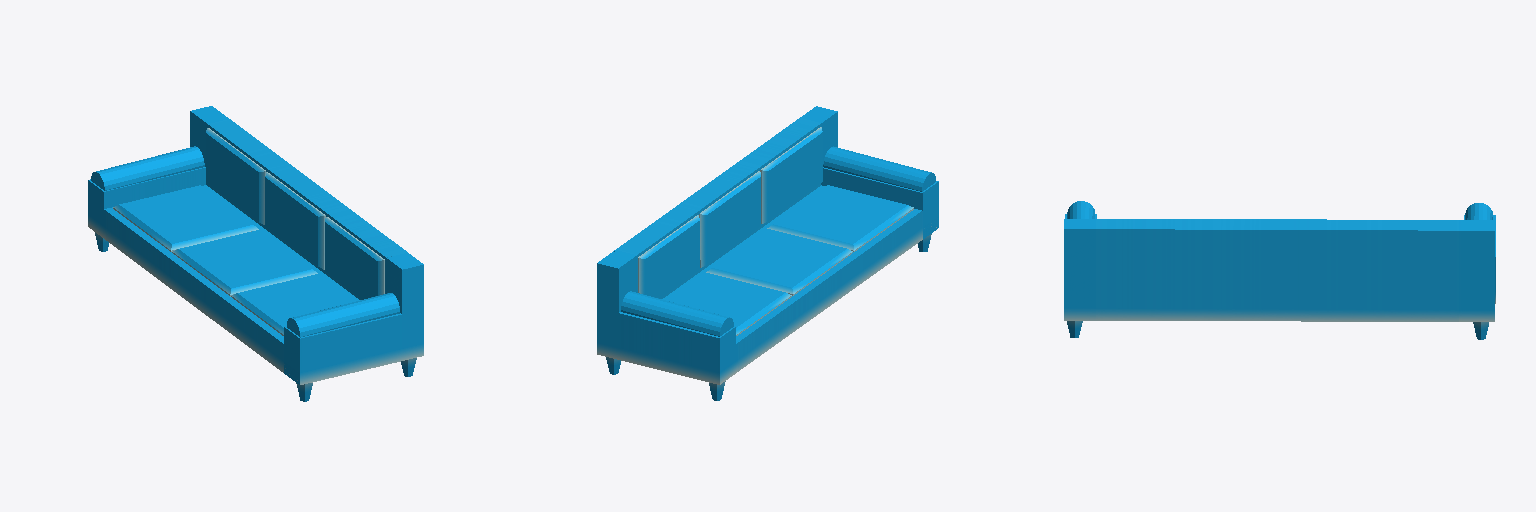
3 views of the same model, side by side, from view 1: azimuth 30°, elevation 25°; view 2: azimuth 150°, elevation 25°; view 3: azimuth 270°, elevation 25° (orthographic).
Visible parts, largest first — view 1: polySurface78; view 2: polySurface78; view 3: polySurface78.
Boxes of the visible parts, box(x1,y1,x2,y2) form: polySurface78: box(88, 106, 423, 401); polySurface78: box(597, 106, 938, 400); polySurface78: box(1064, 201, 1495, 339).
Bounding box in the file's own units: 1.15 × 0.9708 × 3.39.
Materials: 2 (2 with a texture image).